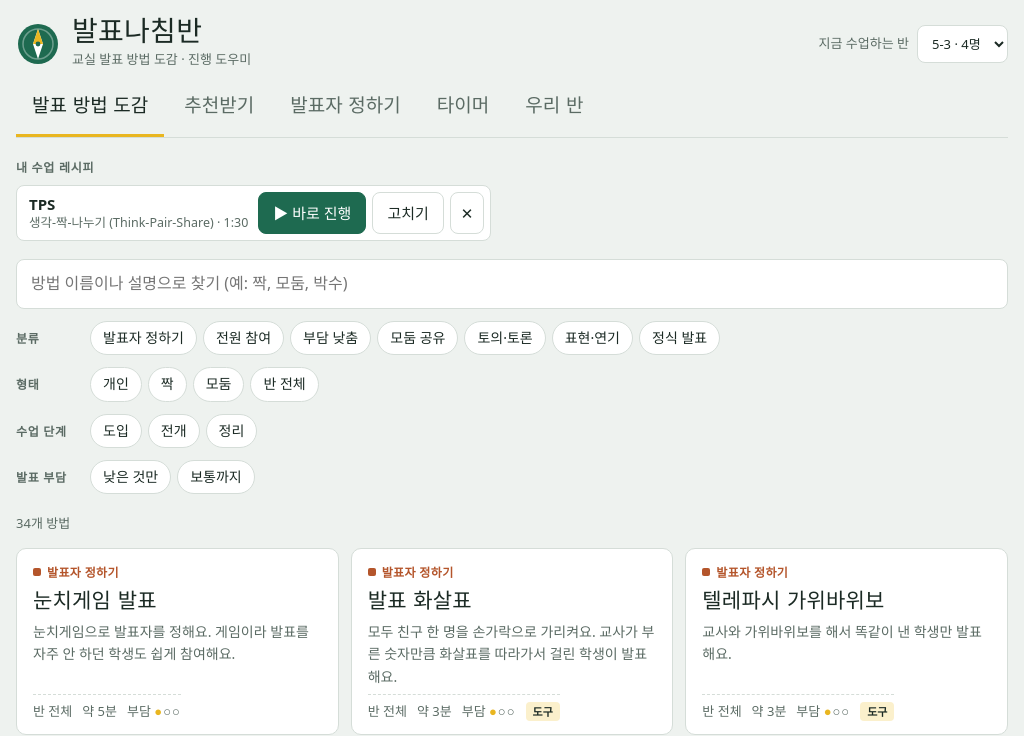
Test case: 진행 화면 › 자동 넘김이 켜져 있으면 다음 단계로 간다
This screenshot has width=1024, height=736.
Click the button "▶ 바로 진행" at [312, 213], box [258,192,366,234]
Wait 62800 ms
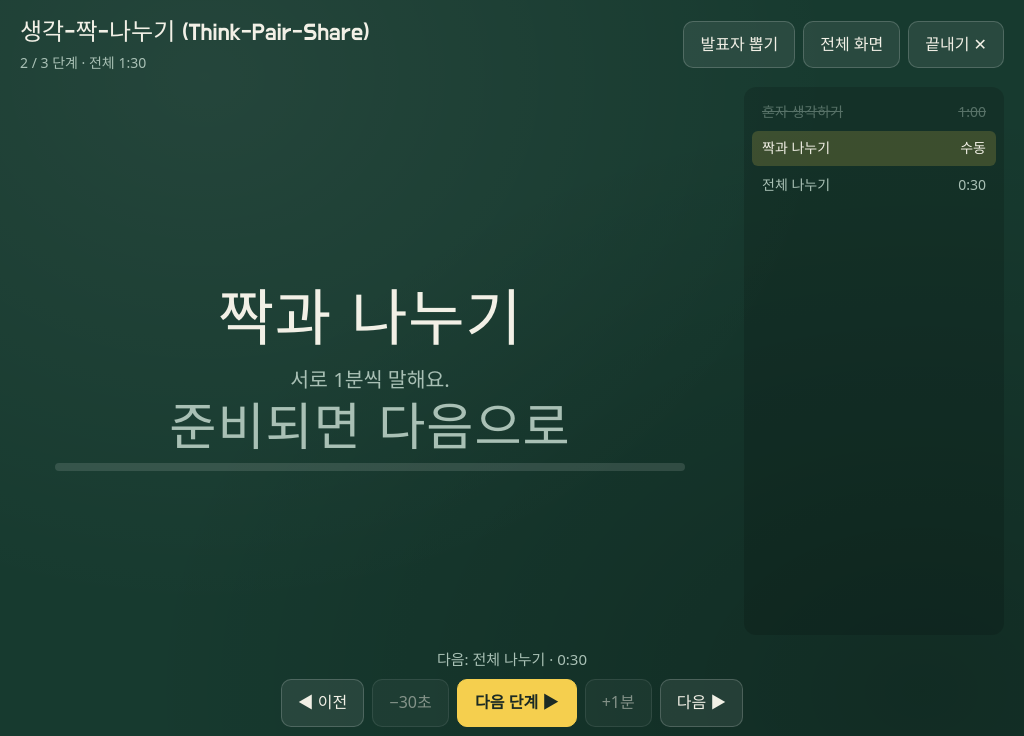
expect the heading reads "짝과 나누기": met, box [218,290,522,352]
expect the text "준비되면 다음으로" is shown: met, box [169,404,571,455]
